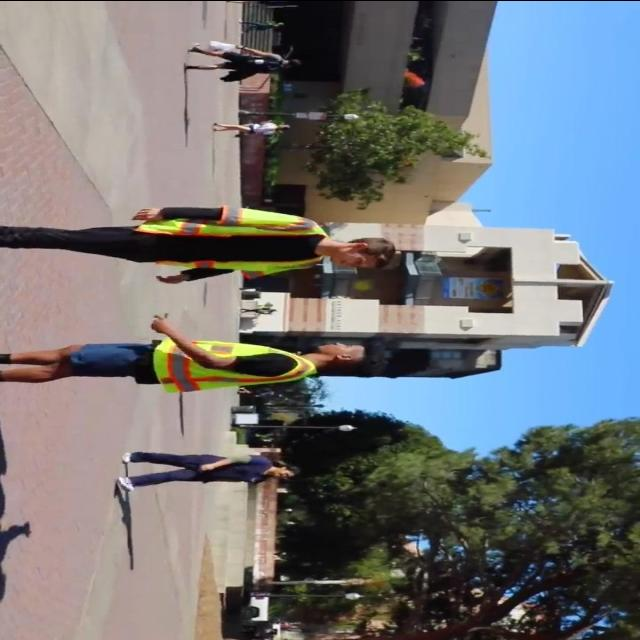jacket: (109, 197, 335, 294), (132, 326, 330, 402)
